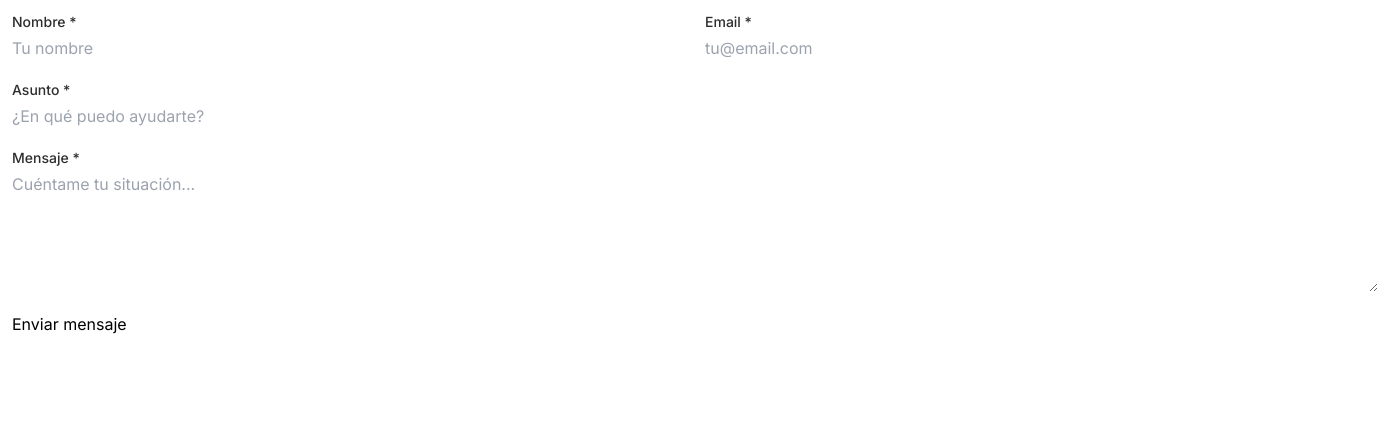
Test: ContactForm › shows inline errors for missing fields on submit
Click the button "Enviar mensaje".
click(69, 324)  # box [12,312,127,336]
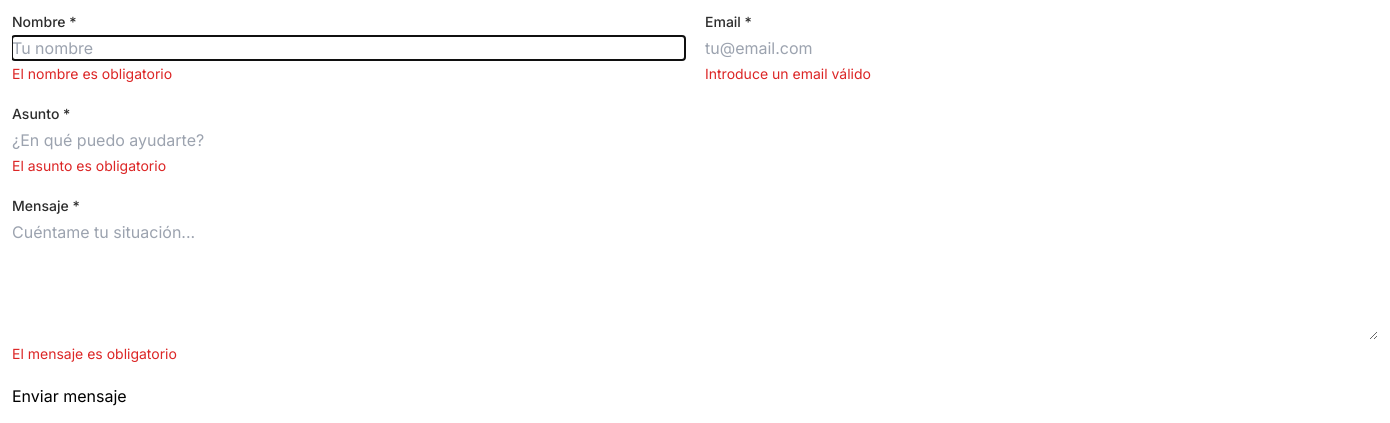
Expected: the message "El nombre es obligatorio" is shown, [12,65,172,82]
